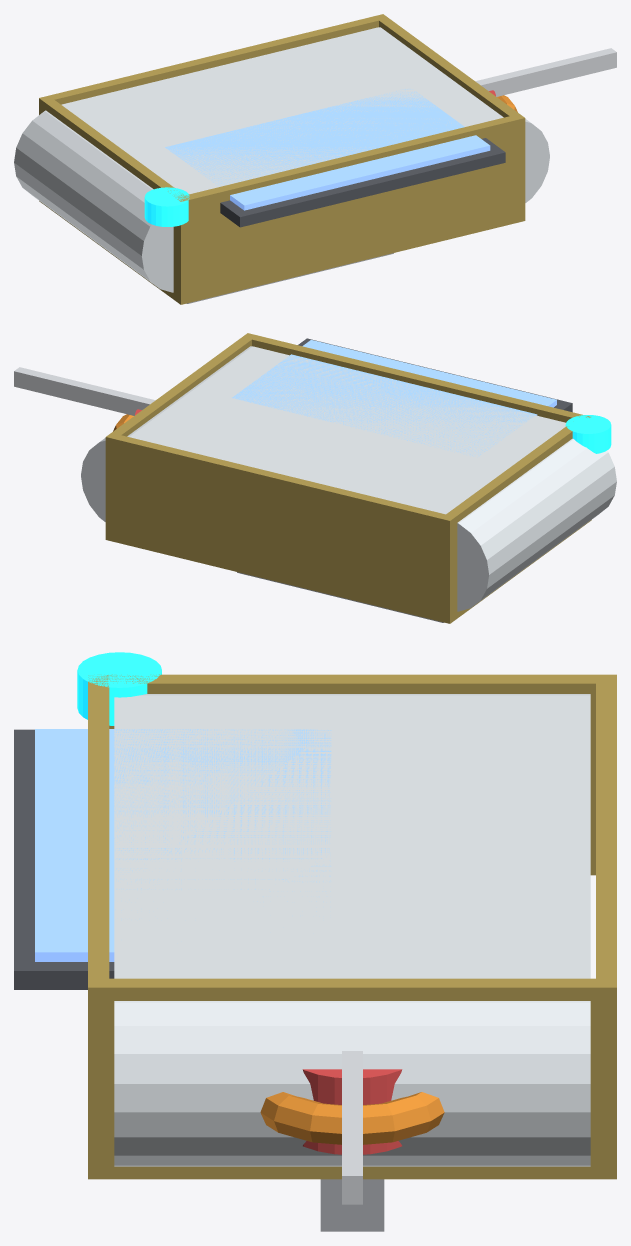
File: crewlink.glb
The picture shows the model from 3 angles, top to bottom: view 1: azimuth 30°, elevation 25°; view 2: azimuth 150°, elevation 25°; view 3: azimuth 270°, elevation 25°; orthographic projection. The views are drawn at different scales.
Parts seen in each view (by area): view 1: TPU_Bumper, Polycarbonate_Core, E-Ink_Display, Core_End_L, Display_Bezel, LoRa_Antenna, Core_End_R, Status_LED; view 2: TPU_Bumper, Polycarbonate_Core, E-Ink_Display, Core_End_L, LoRa_Antenna, Core_End_R, Status_LED, Display_Bezel; view 3: Polycarbonate_Core, Core_End_R, TPU_Bumper, E-Ink_Display, Display_Bezel, SOS_Button_Guard, Status_LED, LoRa_Antenna, SOS_Button, Steel_Belt_Clip, Core_End_L.
Part boxes in pixels (x1,y1,x2,y2): TPU_Bumper: (39, 14, 525, 304); Polycarbonate_Core: (61, 27, 501, 194); E-Ink_Display: (165, 89, 490, 210); Core_End_L: (14, 110, 173, 292); Display_Bezel: (220, 138, 505, 227); LoRa_Antenna: (475, 48, 616, 96); Core_End_R: (378, 27, 549, 202); Status_LED: (144, 187, 189, 226); TPU_Bumper: (105, 333, 591, 623); Polycarbonate_Core: (129, 346, 565, 514); E-Ink_Display: (232, 340, 556, 457); Core_End_L: (457, 438, 616, 611); LoRa_Antenna: (14, 367, 155, 415); Core_End_R: (81, 346, 252, 521); Status_LED: (565, 415, 611, 453); Display_Bezel: (298, 338, 572, 412); Polycarbonate_Core: (114, 695, 590, 978); Core_End_R: (114, 1001, 590, 1166); TPU_Bumper: (88, 674, 616, 1179); E-Ink_Display: (35, 729, 331, 961); Display_Bezel: (14, 729, 114, 989); SOS_Button_Guard: (260, 1092, 444, 1144); Status_LED: (77, 652, 161, 725); LoRa_Antenna: (342, 1051, 362, 1204); SOS_Button: (302, 1069, 402, 1154); Steel_Belt_Clip: (320, 1179, 384, 1231); Core_End_L: (141, 694, 590, 695).
Bounding box in the file's own units: 0.109 × 0.032 × 0.057.
